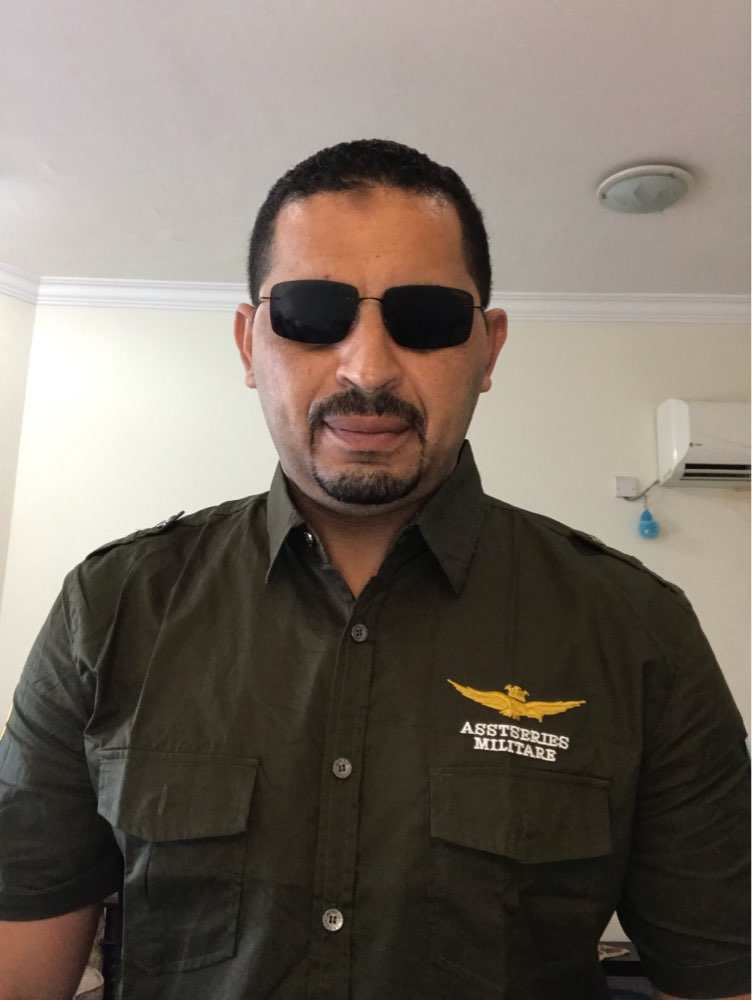shirts: (37, 494, 752, 969)
